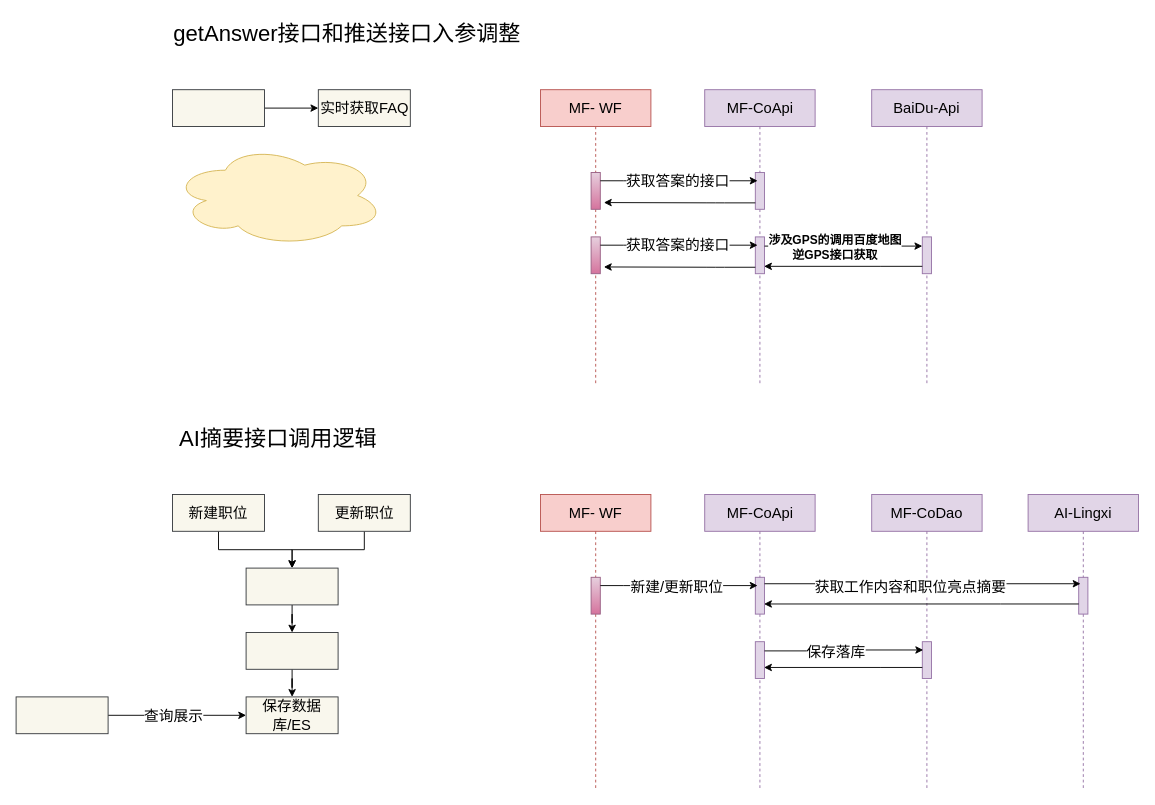
Image size: 1155x805. Some labels were removed from this diagram. The centre of each missing label's shape, as x and y in pixels:
"AI对话流程" goes at point 218,107.
"从AI侧获取摘要" goes at point 291,650.
"工作内容/职位亮点" goes at point 291,586.
"新增字段：详见在线表格" goes at point 278,195.
"项目快速上线页面" goes at point 61,715.
